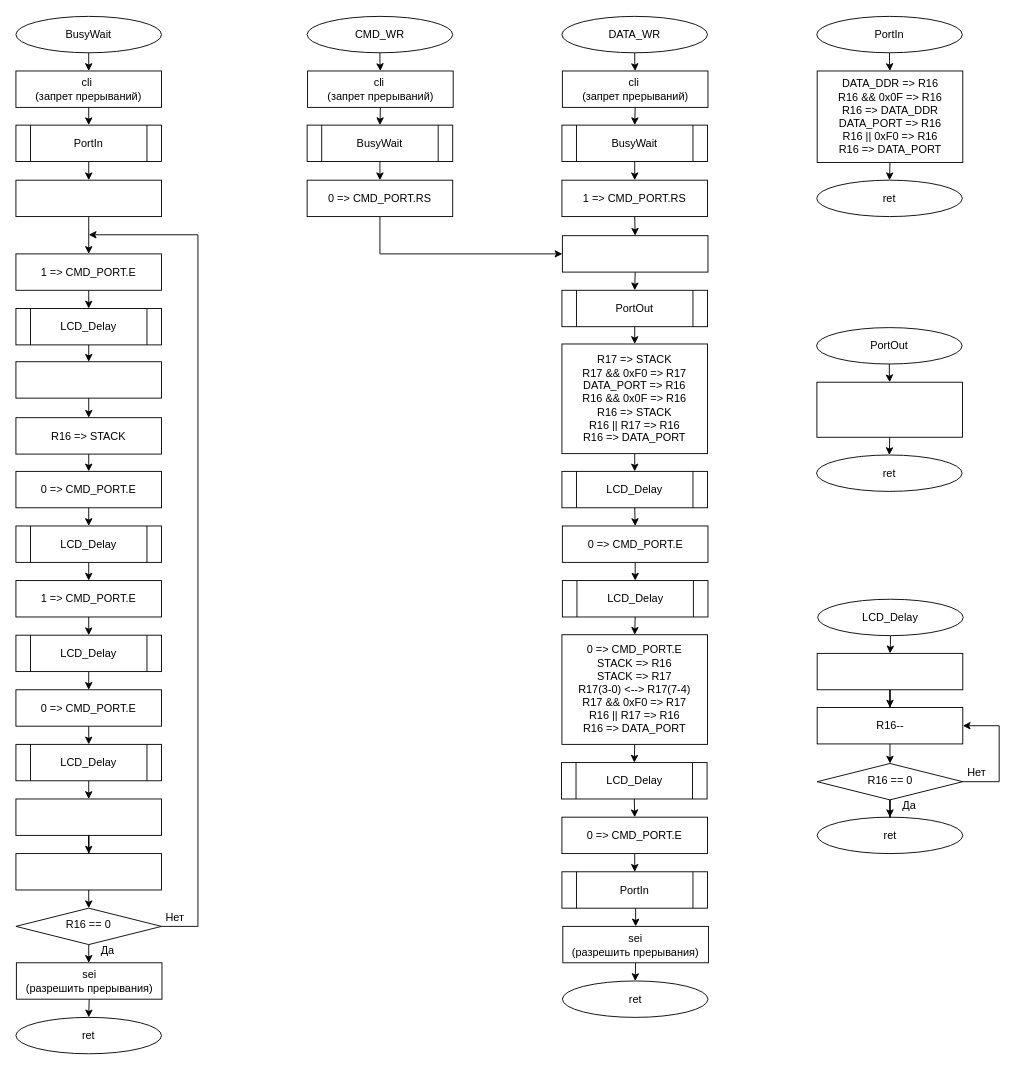
Some shapes in this 1023 by 1069 pixel diagram are drawn without their labels. Each missing label, with the box of its shape:
0 => CMD_PORT.RS 1 => CMD_PORT.RW: (15, 179, 162, 217)
0 => CMD_PORT.RW 1 => CMD_PORT.E: (561, 235, 708, 272)
DATA_DDR => R16 R16 || 0xF0 => R16 R16 => DATA_DDR: (816, 381, 963, 437)
DATA_PIN => R16: (15, 361, 162, 398)
R16 && 0x080 => R16: (15, 853, 162, 890)
SPEED => R16: (816, 652, 963, 690)
STACK => R16: (15, 798, 162, 835)
